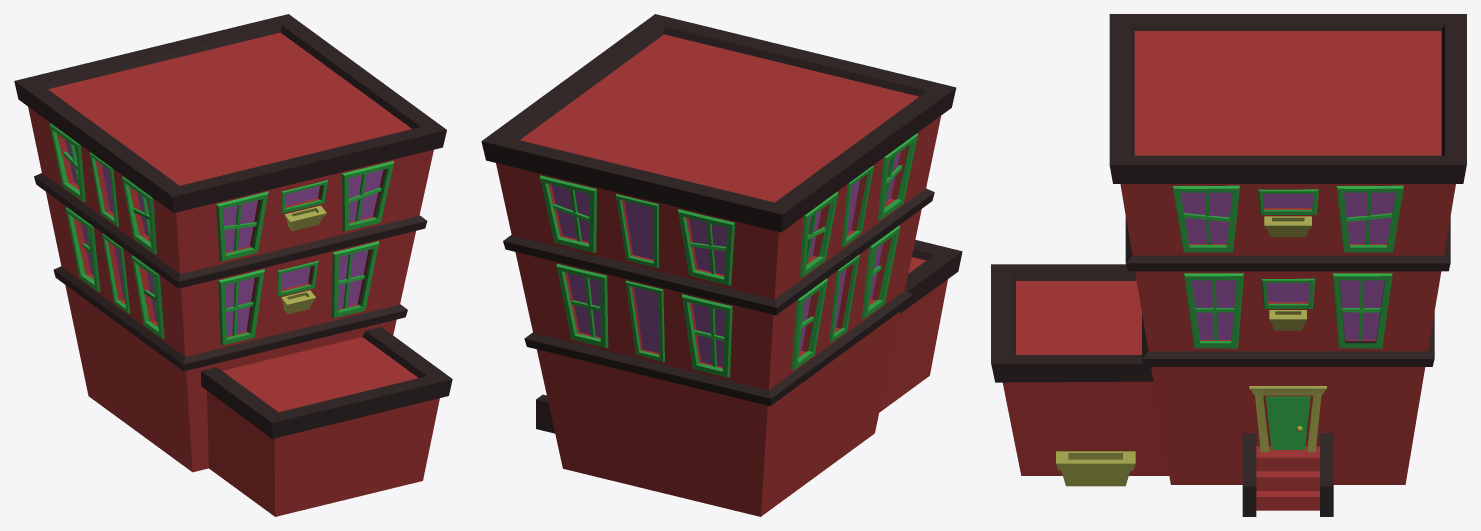
File: SM_M_Building_A.fbx
3 renders of one model, left to right at view 1: azimuth 30°, elevation 25°; view 2: azimuth 150°, elevation 25°; view 3: azimuth 270°, elevation 25°, orthographic. The views are drawn at different scales.
Parts seen in each view (by area): view 1: SM_M_Building_A; view 2: SM_M_Building_A; view 3: SM_M_Building_A.
Part boxes in pixels (x1,y1,x2,y2): SM_M_Building_A: [14, 14, 452, 516]; SM_M_Building_A: [481, 14, 962, 516]; SM_M_Building_A: [991, 14, 1466, 516].
Size of what is drawn, in the model's own units: 986 by 1024 by 1270.
